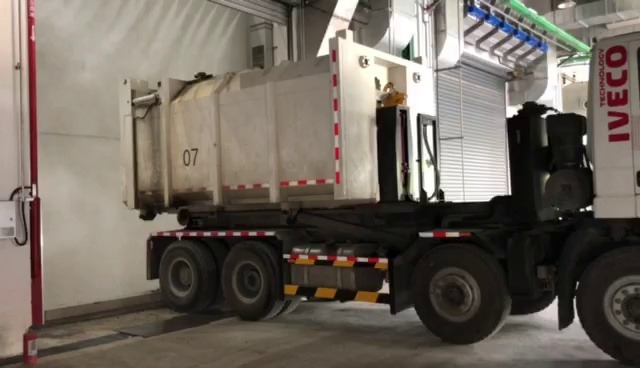truck: (120, 24, 640, 367)
